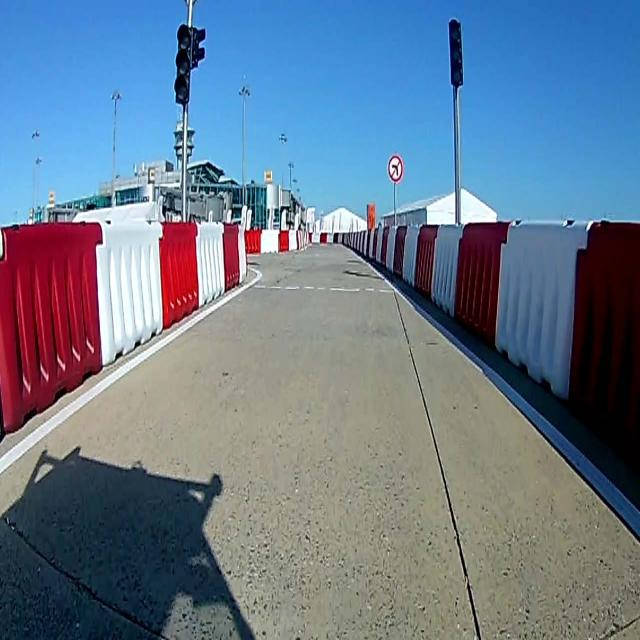soladonulmez: (388, 156, 402, 182)
